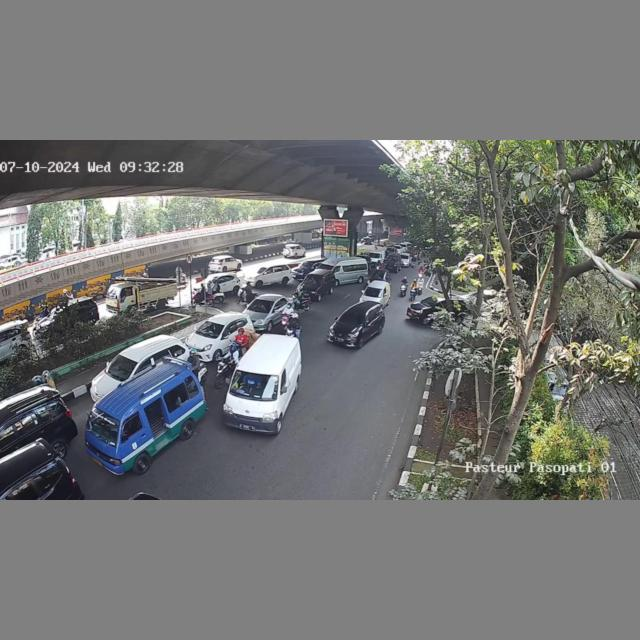windshield: (85, 405, 123, 446), (229, 370, 280, 399), (106, 354, 137, 378), (197, 319, 225, 337), (338, 310, 368, 324), (248, 300, 273, 313), (364, 286, 386, 296)
